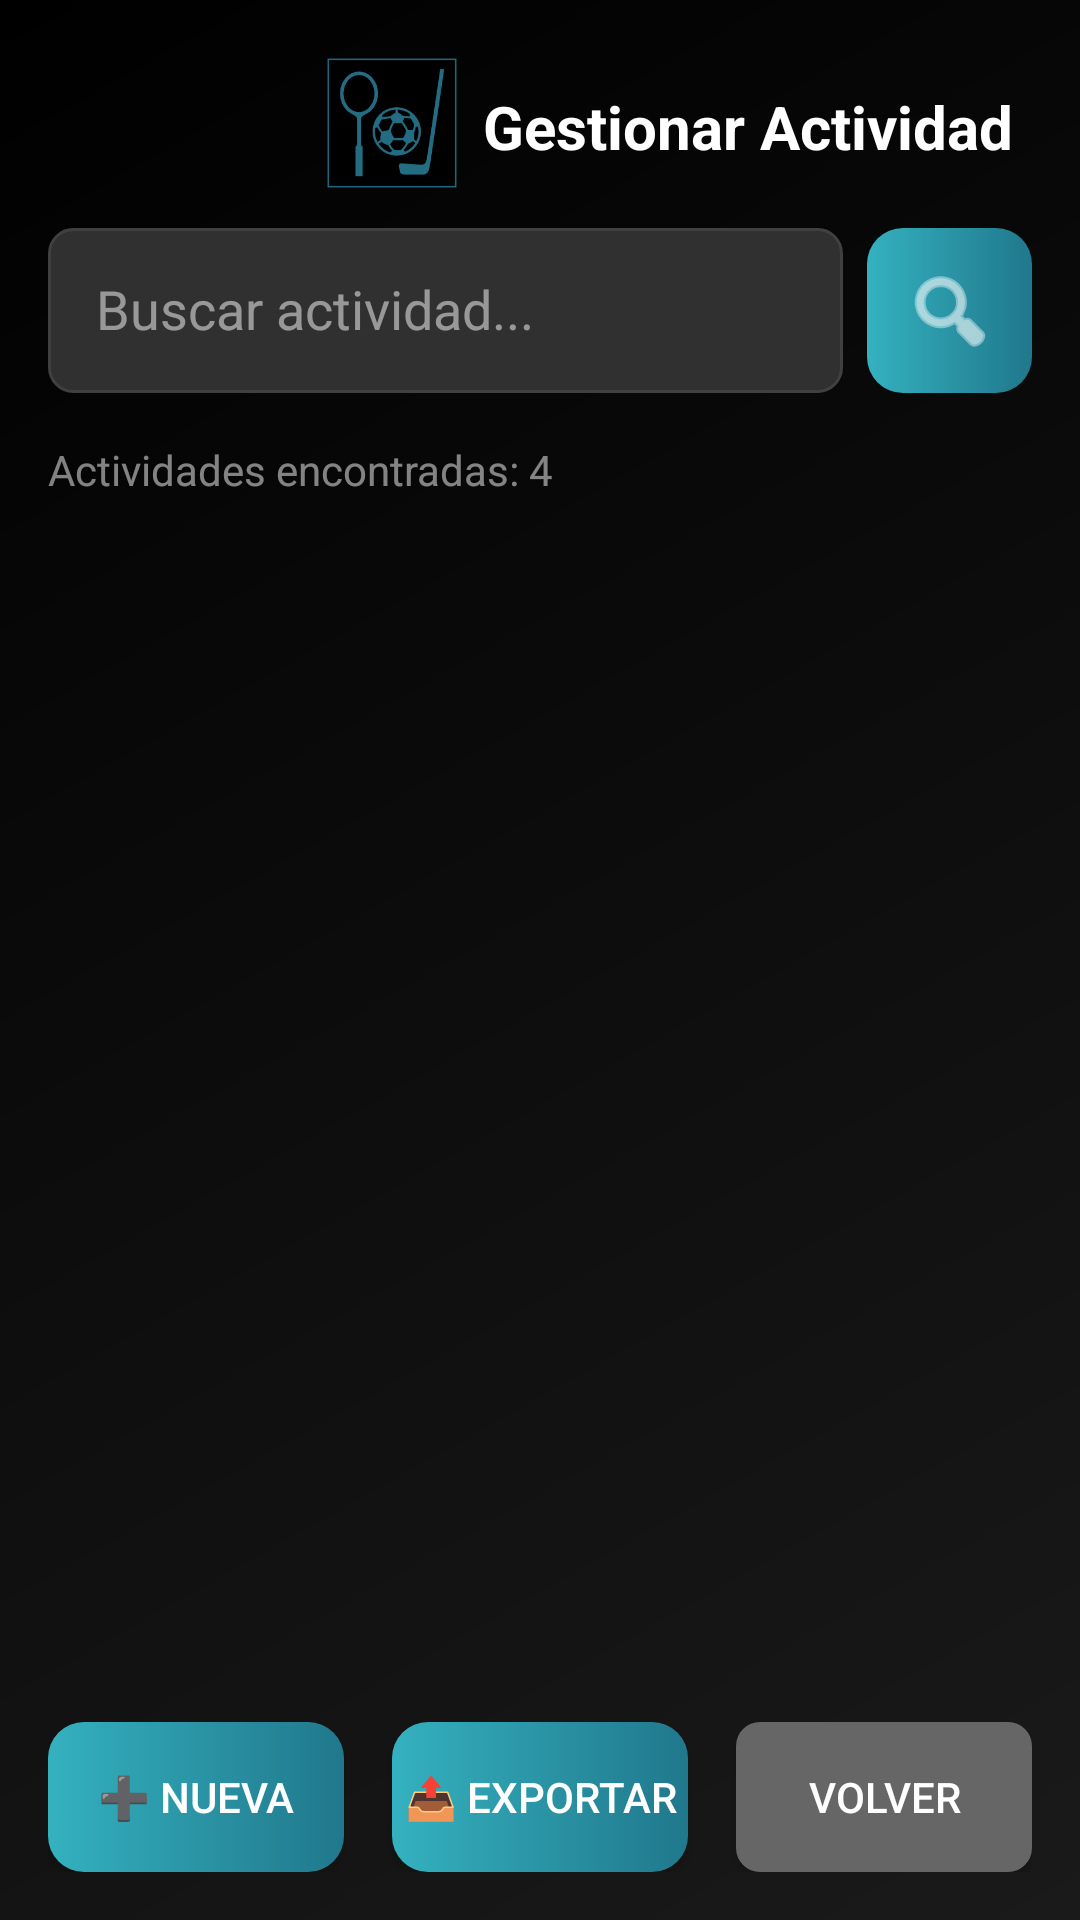

Screen size 1080 × 1920. Icon name, then its center in pixels as point (x, y):
activity management: point (392, 123)
search: point (949, 310)
